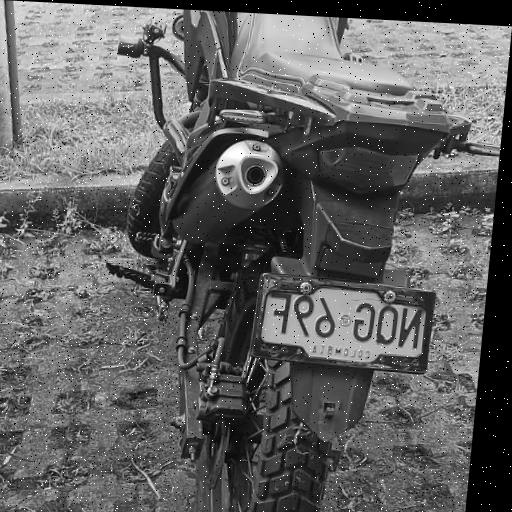placa: (250, 274, 436, 375)
